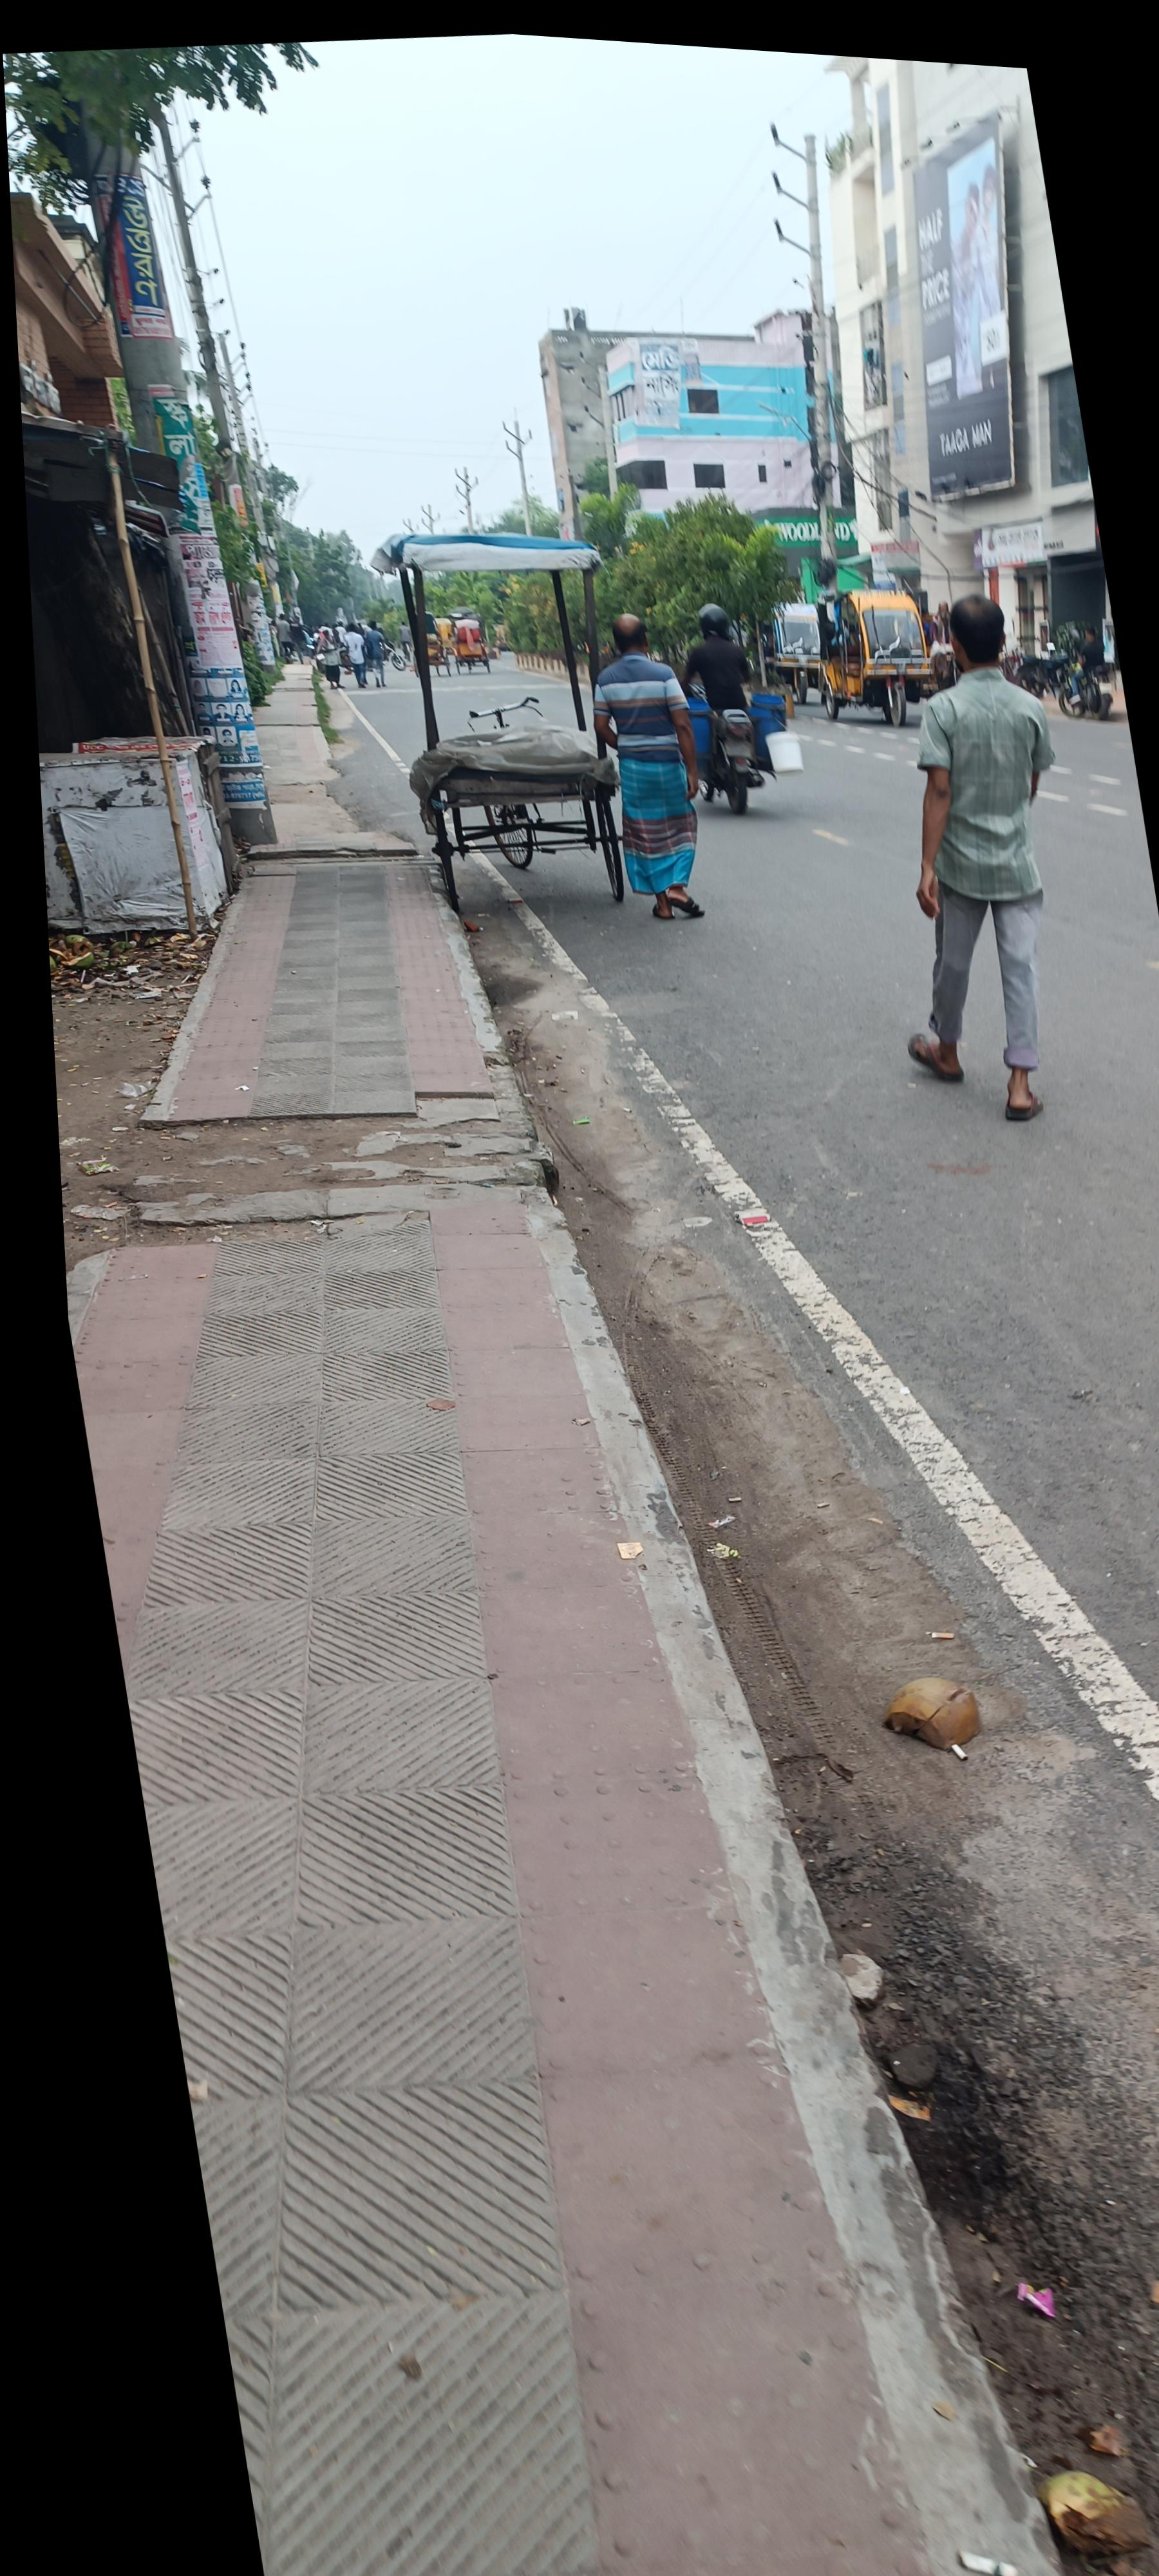Dog: (734, 1713, 845, 1810)
Fallen-tree: (547, 726, 652, 869)
Garbage: (238, 560, 527, 981)
Garbage-bin: (709, 624, 980, 1180), (448, 655, 594, 976), (540, 647, 640, 848)
Pothole: (26, 647, 929, 2576)
